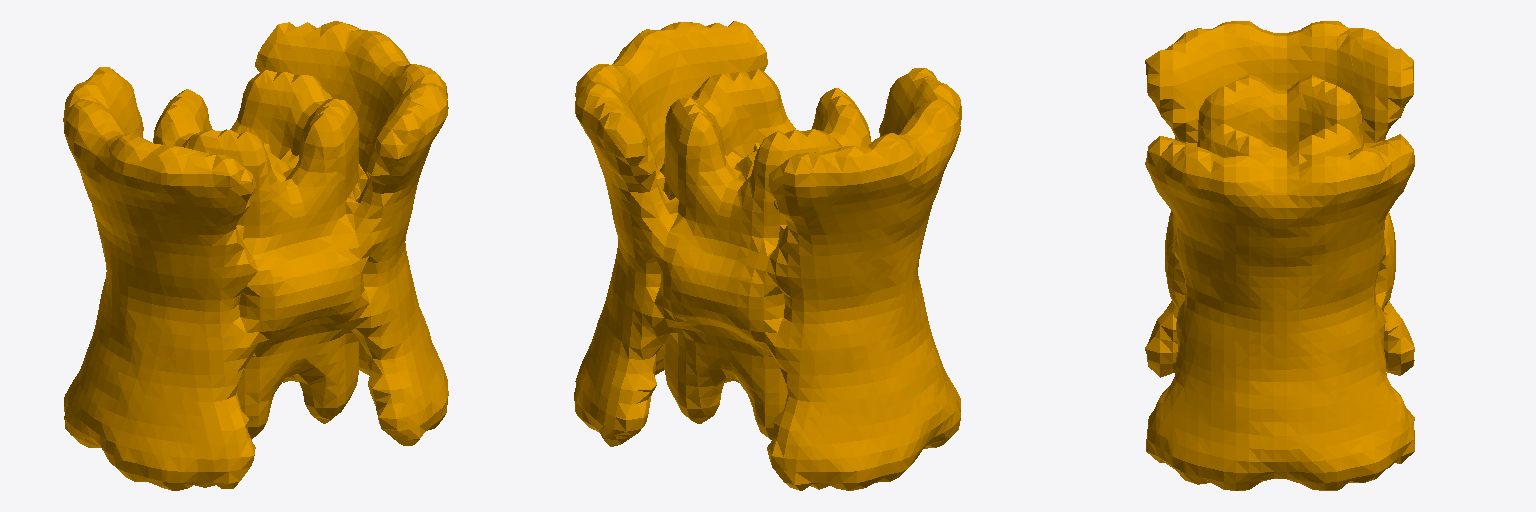
robot.urdf — S21_2:
<?xml version="1.0"?>
<robot name="S21_2">
  <link name="base_link">
    <inertial>
      <mass value="0.11633" />
      <origin xyz="0 0 0" />
      <inertia  ixx="0.0002" ixy="0.0"  ixz="0.0"  iyy="0.0002"  iyz="0.0" izz="0.0002" />
    </inertial>
    <visual>
      <geometry>
        <mesh filename="../../../meshes/egad/train/S21_2.obj" />
      </geometry>
    </visual>
    <collision>
      <geometry>
        <mesh filename="../../../meshes/egad/train/S21_2.obj" />
      </geometry>
    </collision>
  </link>
</robot>

--- Facts derived from the render (not from the file) ---
3 views of the same robot in one strip: view 1: azimuth 30°, elevation 25°; view 2: azimuth 150°, elevation 25°; view 3: azimuth 270°, elevation 25° (orthographic).
Robot: S21_2 — 1 links, 0 joints (none); root link base_link; default pose: all joints at 0.
Visible links, largest first — view 1: base_link; view 2: base_link; view 3: base_link.
Link boxes in pixels (x1,y1,x2,y2): base_link: (63, 21, 448, 490); base_link: (574, 21, 961, 490); base_link: (1145, 21, 1414, 490).
Bounding box of the posed robot: 0.0749 × 0.0543 × 0.0738 m (x, y, z).
1 mesh visuals loaded from 1 distinct referenced files (1 OBJ).